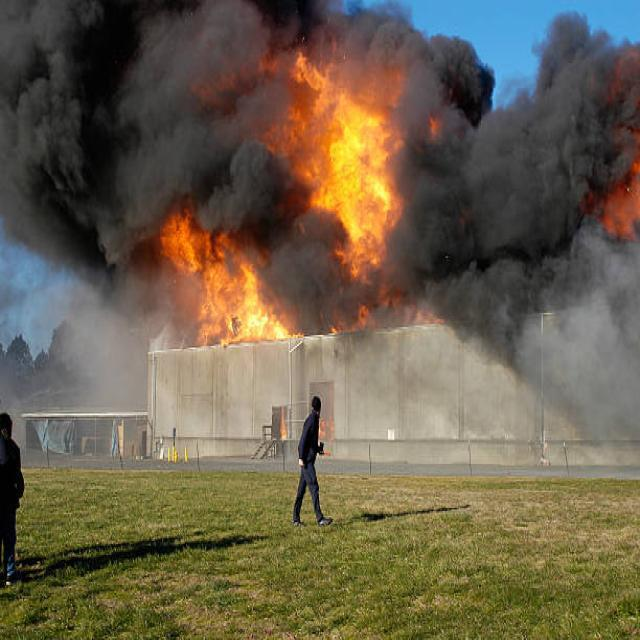Fire: (272, 31, 414, 302), (152, 203, 260, 329), (592, 108, 640, 288)
Smoke: (1, 1, 332, 293), (395, 31, 640, 404)
